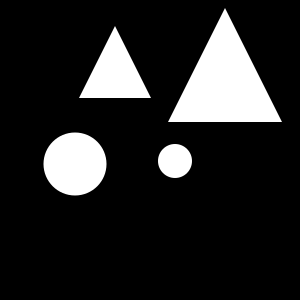rectangle: (44, 132, 106, 195), (158, 144, 192, 178)
triangle: (168, 8, 282, 122), (79, 26, 151, 98)
